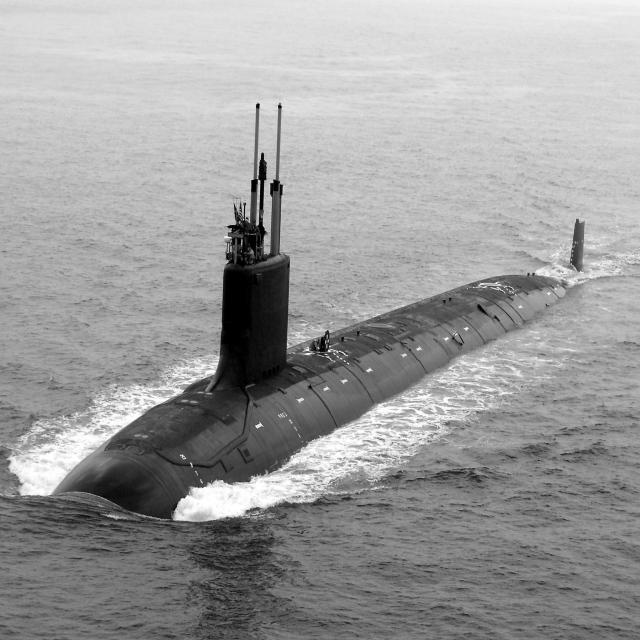submarine: (48, 101, 596, 530)
